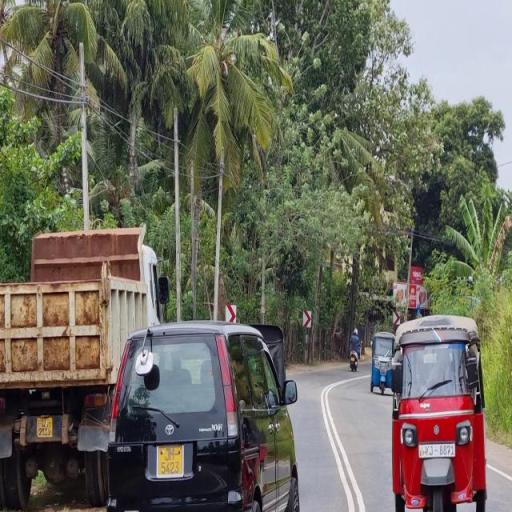double_white_line: (320, 376, 370, 512)
